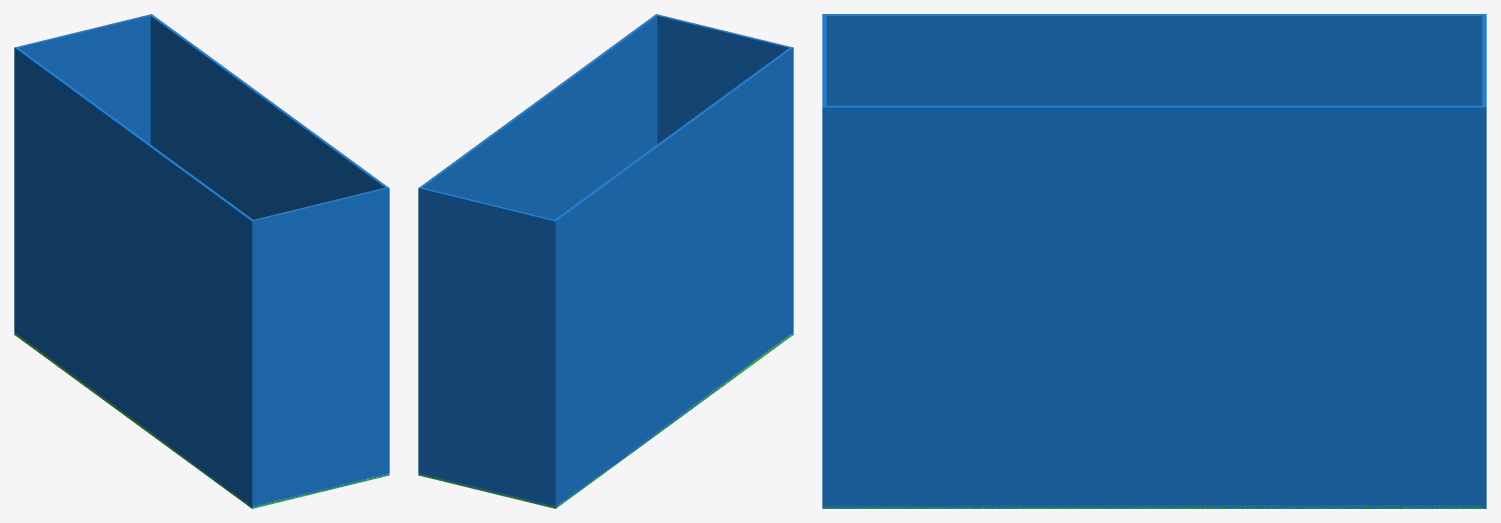
The model's file is terrain V0.0.1.glb.
3 views of the same model, side by side, from view 1: azimuth 30°, elevation 25°; view 2: azimuth 150°, elevation 25°; view 3: azimuth 270°, elevation 25° (orthographic). The views are drawn at different scales.
Parts seen in each view (by area): view 1: Cube.001, Cube.003, Cube.002, Cube.004, Cube; view 2: Cube.001, Cube.004, Cube.002, Cube.003, Cube; view 3: Cube.002, Cube.001, Cube, Cube.003, Cube.004.
Boxes of the visible parts, x1,y1,x2,y2 form: Cube.001: (14, 47, 254, 508); Cube.003: (250, 187, 389, 508); Cube.002: (149, 14, 389, 475); Cube.004: (14, 14, 152, 335); Cube: (14, 332, 389, 508); Cube.001: (553, 47, 793, 508); Cube.004: (418, 187, 557, 508); Cube.002: (418, 14, 658, 474); Cube.003: (655, 14, 793, 335); Cube: (418, 332, 793, 508); Cube.002: (822, 105, 1486, 508); Cube.001: (822, 14, 1486, 105); Cube: (822, 505, 1486, 508); Cube.003: (822, 16, 826, 508); Cube.004: (1482, 14, 1486, 508).
Bounding box in the file's own units: 100 × 200 × 300.
